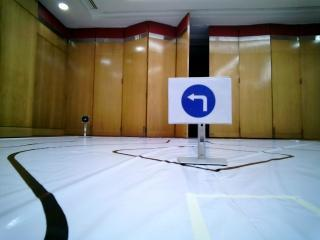left: (167, 80, 235, 126)
